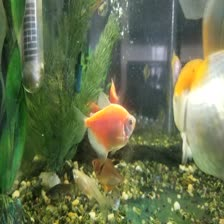Cuezo: (159, 8, 223, 191)
Plano: (70, 93, 141, 151), (66, 164, 124, 212)
Transparente: (91, 157, 130, 184)
